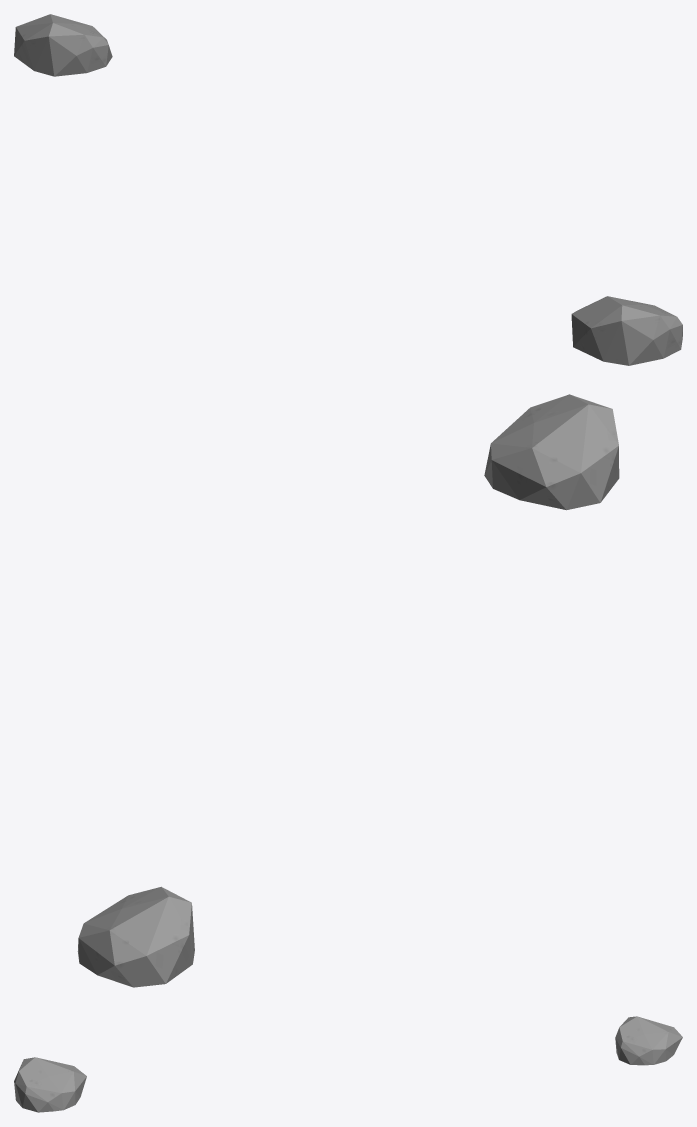
The model's file is Stones5.gltf.
3 views of the same model, one above another, from view 1: azimuth 30°, elevation 25°; view 2: azimuth 150°, elevation 25°; view 3: azimuth 270°, elevation 25° (orthographic). The views are drawn at different scales.
Parts seen in each view (by area): view 1: Stone4 - copy.004, Stone4 - copy.001; view 2: Stone4 - copy.004, Stone4 - copy.001; view 3: Stone4 - copy.004, Stone4 - copy.001.
Part boxes in pixels (box(x1,y1,x2,y2)): Stone4 - copy.004: box(571, 296, 682, 365); Stone4 - copy.001: box(14, 14, 112, 76); Stone4 - copy.004: box(484, 394, 619, 510); Stone4 - copy.001: box(77, 886, 194, 987); Stone4 - copy.004: box(14, 1057, 86, 1112); Stone4 - copy.001: box(615, 1016, 682, 1065).
Bounding box in the file's own units: 3.32 × 0.7345 × 12.9.
Materials: 1 (1 with a texture image).
